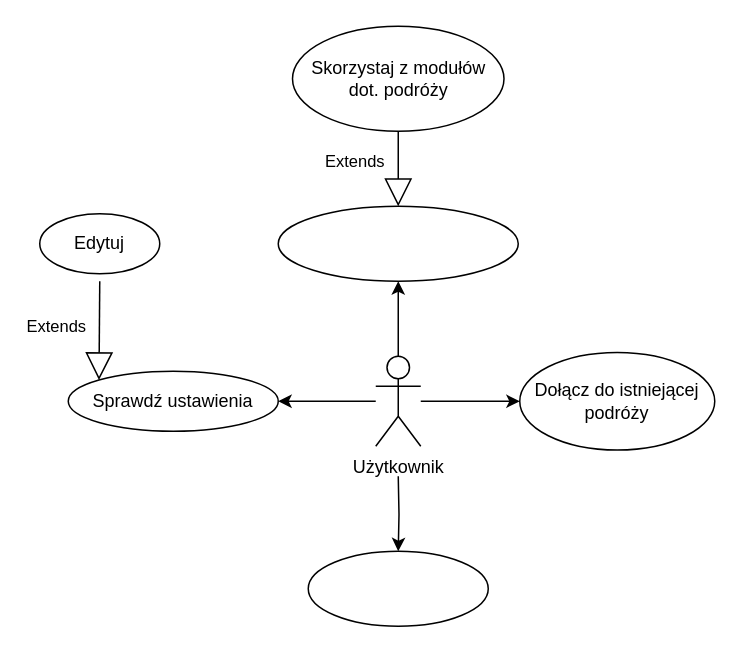
The diagram is 741 pixels wide and 653 high, and some of its shapes have lost their labels. Each missing label, with the centre of its shape:
"Stwórz nową podróż" belongs at (397,588).
"Zobacz panel podróży" belongs at (397,243).
